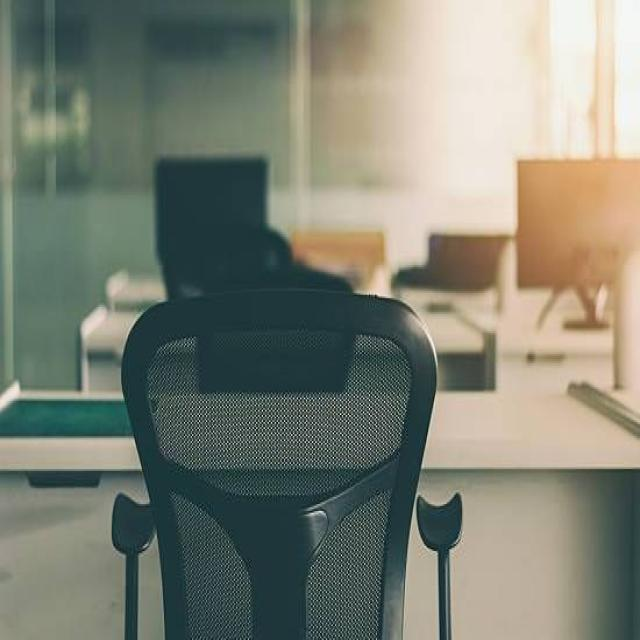chair: (111, 286, 463, 638)
